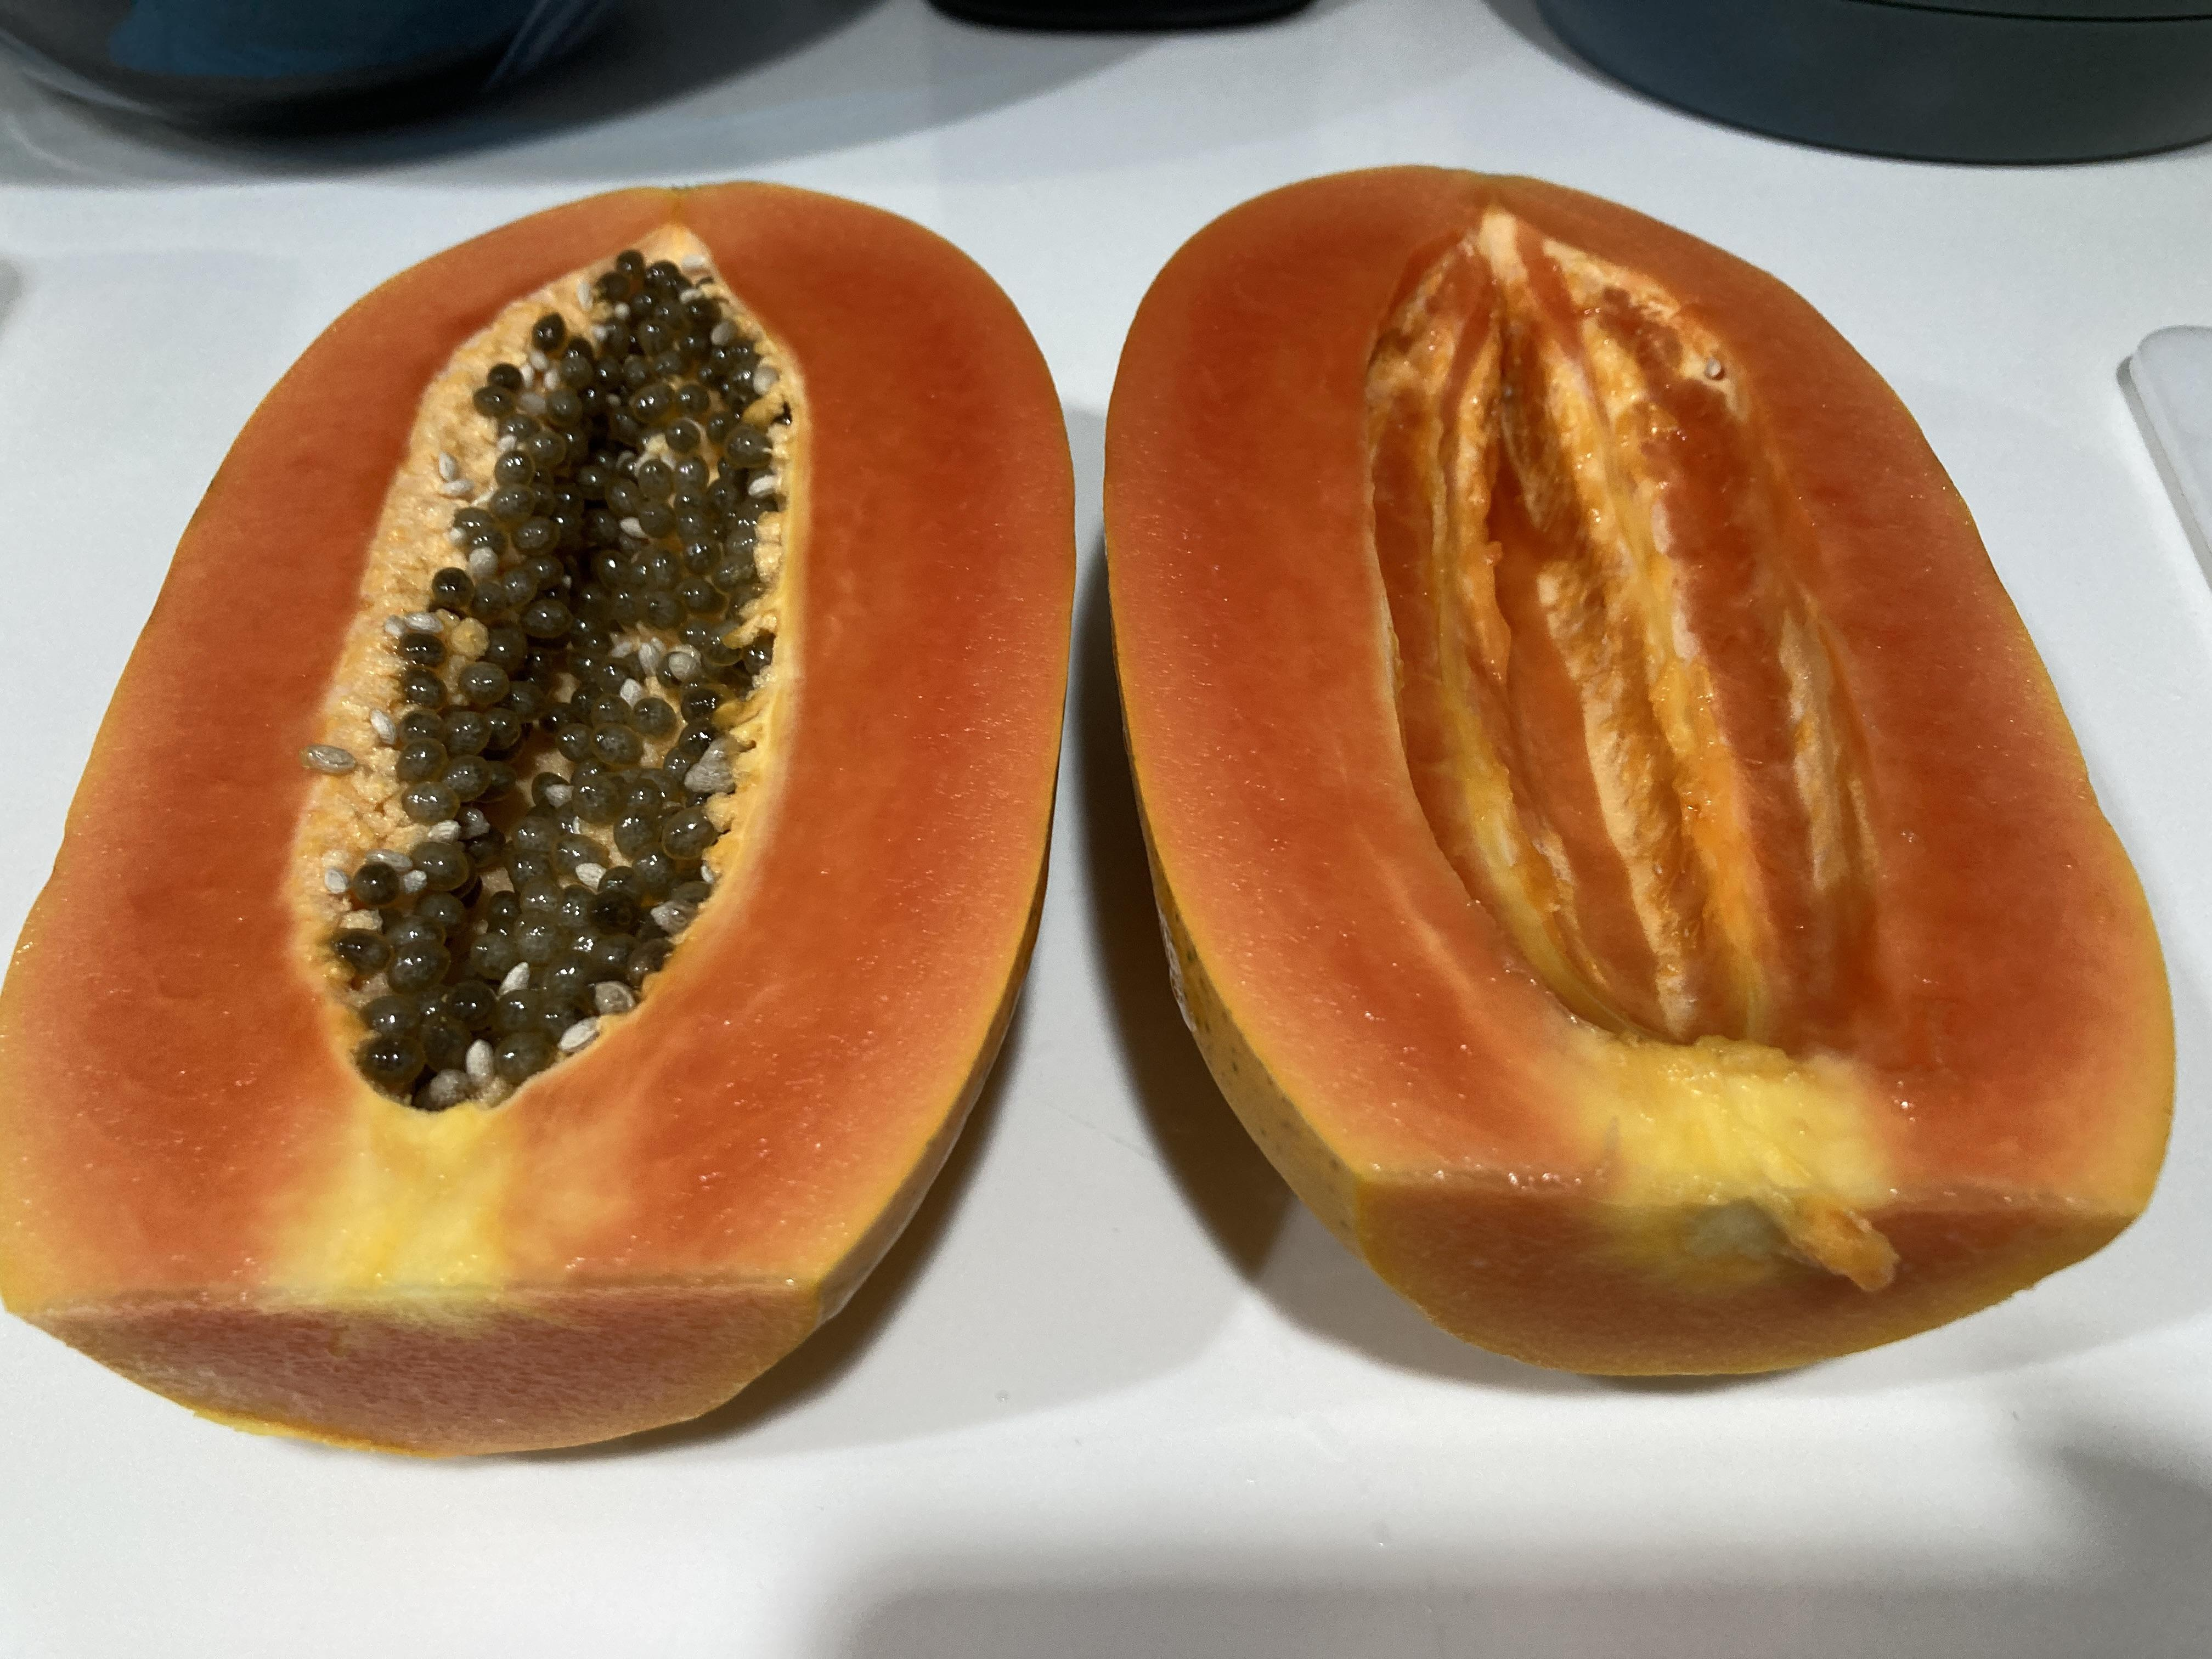papaya: (1069, 110, 2212, 1493), (0, 134, 1089, 1518)
